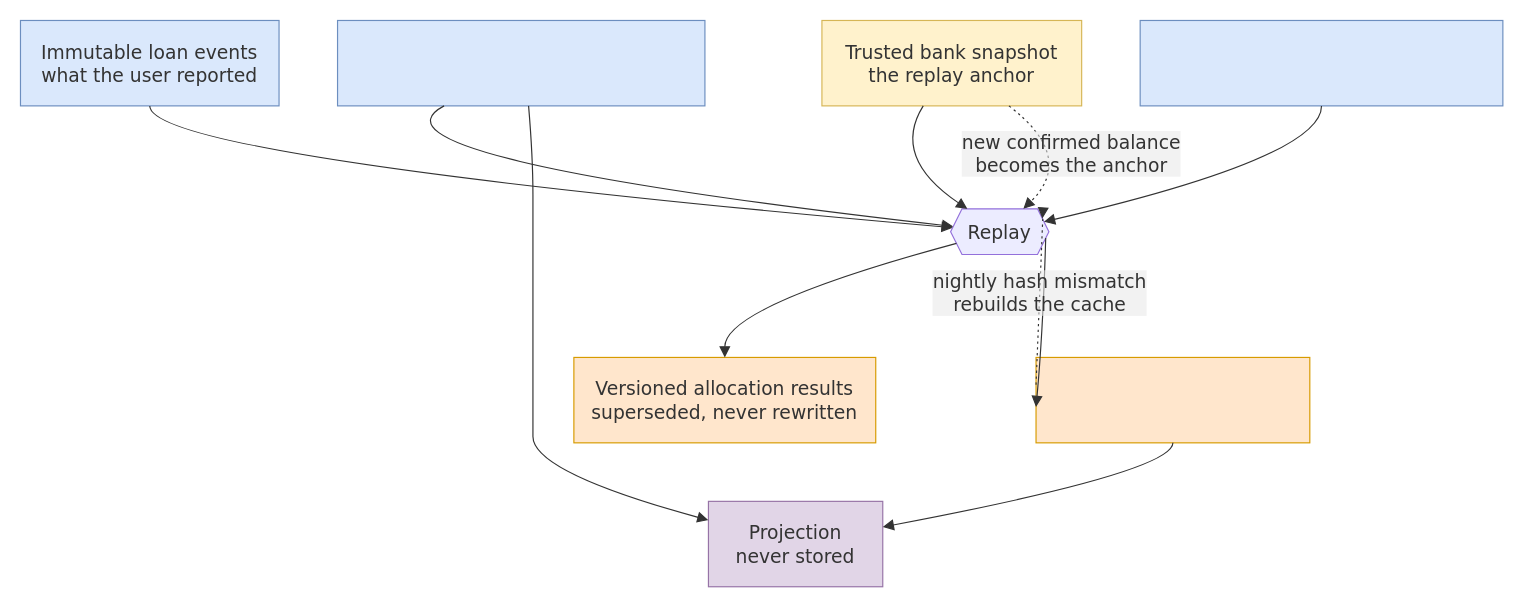
Image size: 1523x607. Some labels were removed from this diagram. The shapes that lost their labels are listed below. From the top down, each one's centre as x and y in pixels, then its label:
At point (520, 62): "Contract versions immutable, non-overlapping periods".
At point (1321, 62): "Snapshot coverage assertions this event is already in that balance".
At point (1172, 399): "Derived loan state cache + event_set_hash".
